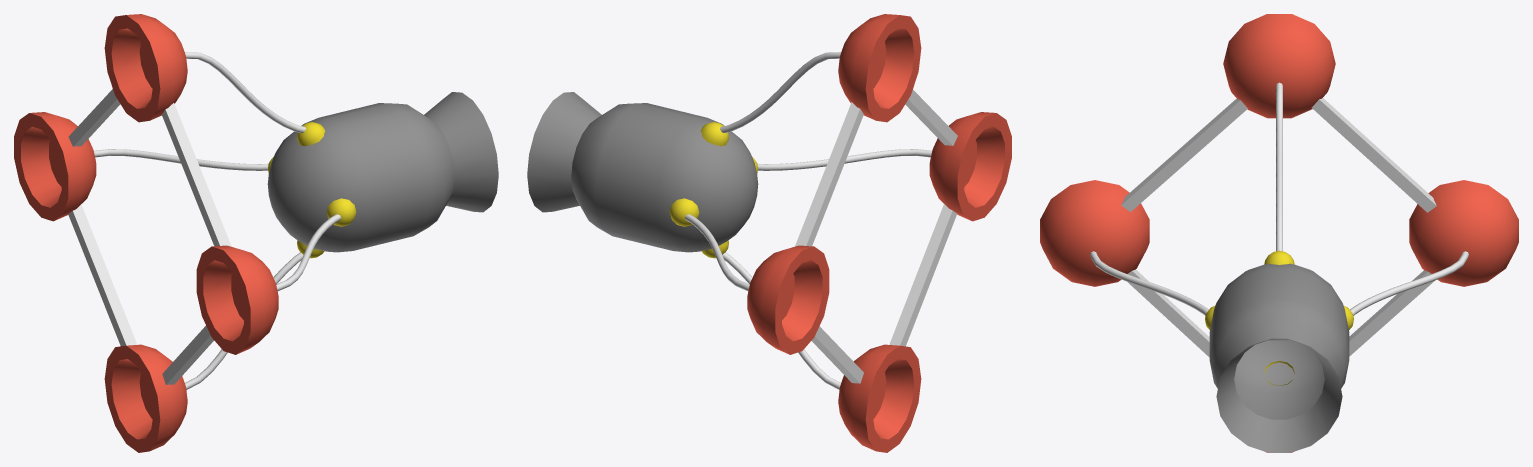
The model's file is rocket_7.fbx.
3 renders of one model, left to right at view 1: azimuth 30°, elevation 25°; view 2: azimuth 150°, elevation 25°; view 3: azimuth 270°, elevation 25°, orthographic.
Visible parts, largest first — view 1: rocket_7; view 2: rocket_7; view 3: rocket_7.
Part boxes in pixels (bbox=[...]): rocket_7: bbox=[14, 14, 498, 452]; rocket_7: bbox=[527, 14, 1011, 452]; rocket_7: bbox=[1040, 14, 1518, 452].
Size of the model in its own units: 145 by 177 by 177.
